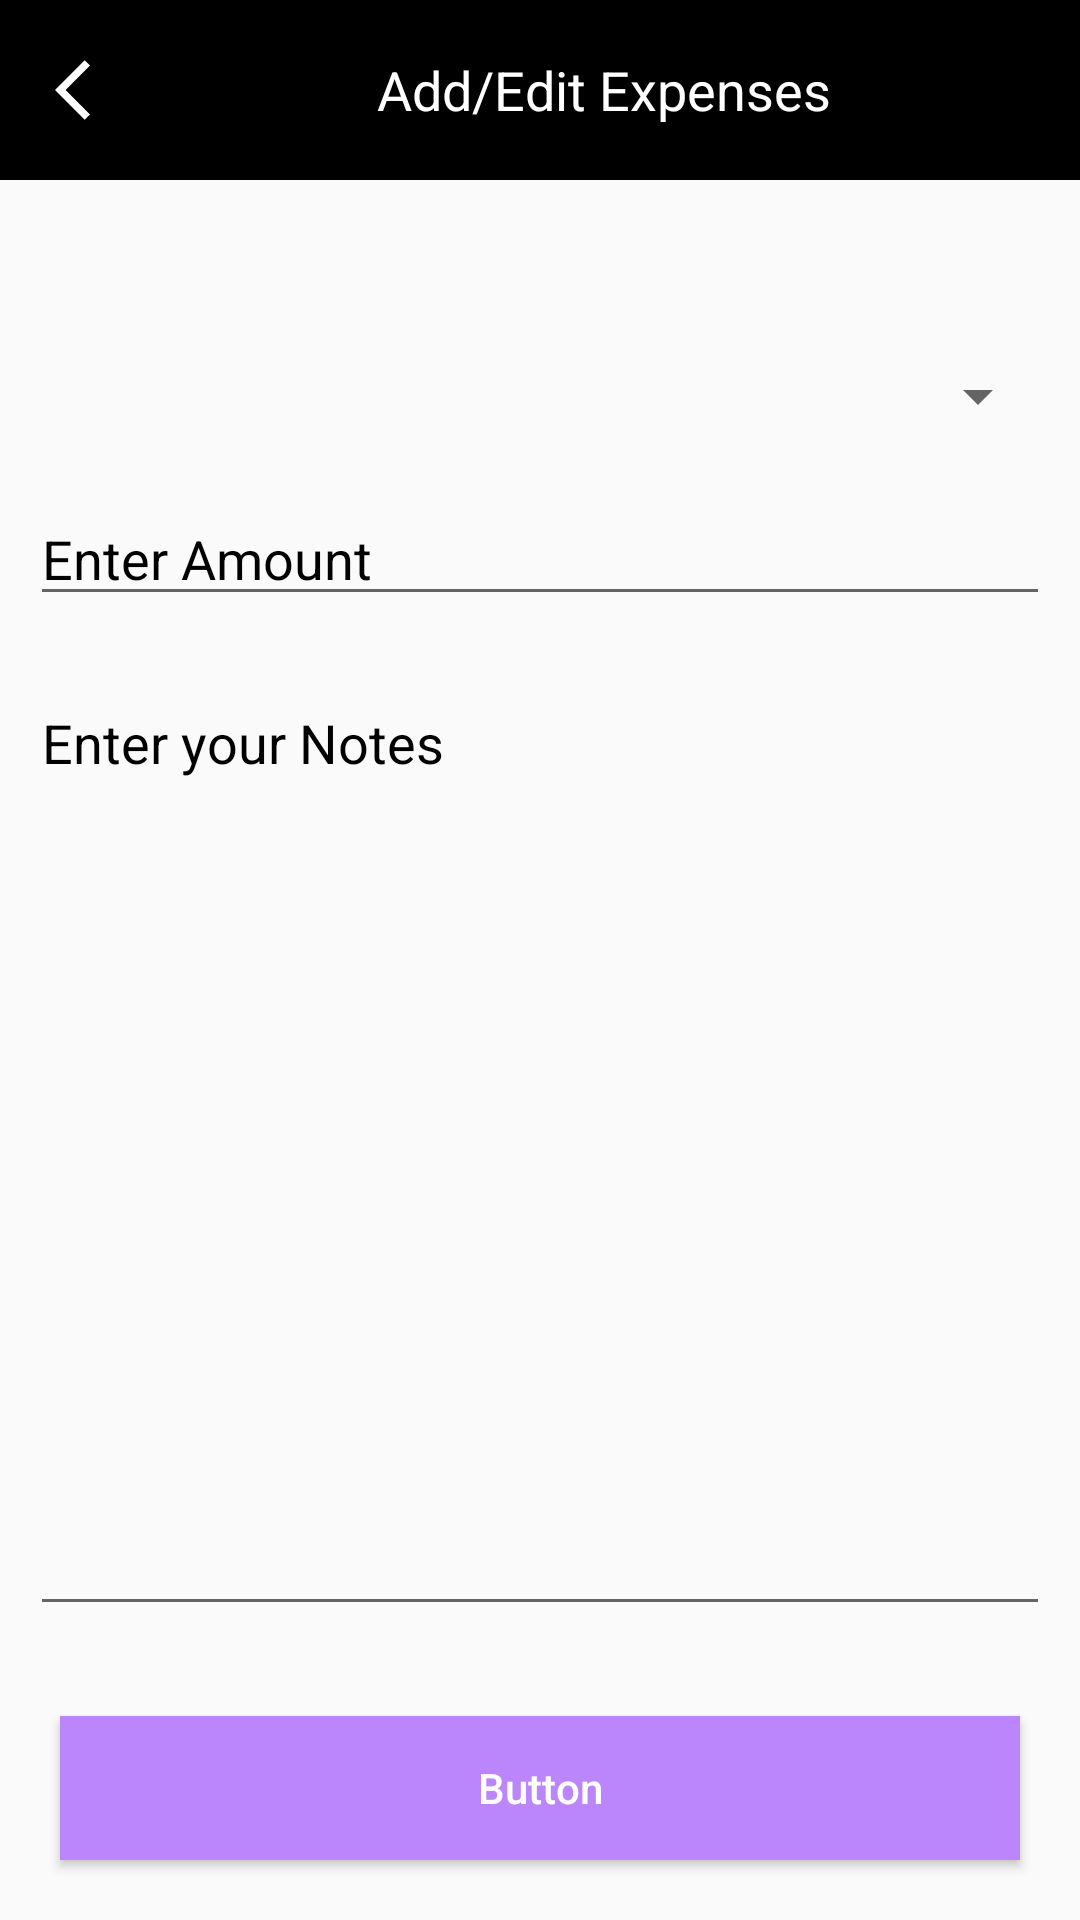

Where icons sit on this 1080 x 1920 app screen, as box=[x1, y1, x2, y2]:
arrow back: box=[55, 60, 90, 120]
